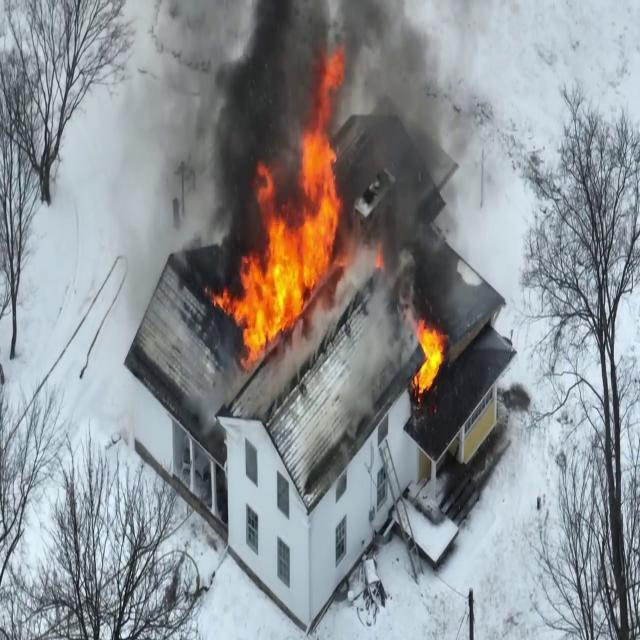Fire: (224, 119, 350, 373), (410, 308, 450, 402)
Smoke: (153, 0, 329, 262), (356, 2, 491, 334)
